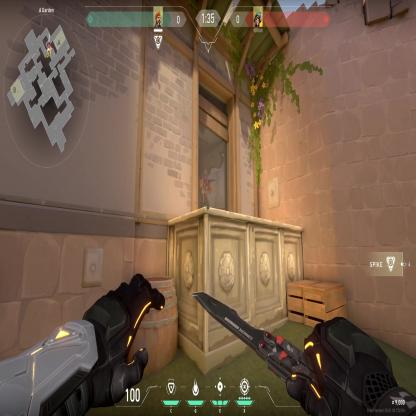enemy: (199, 168, 212, 209)
